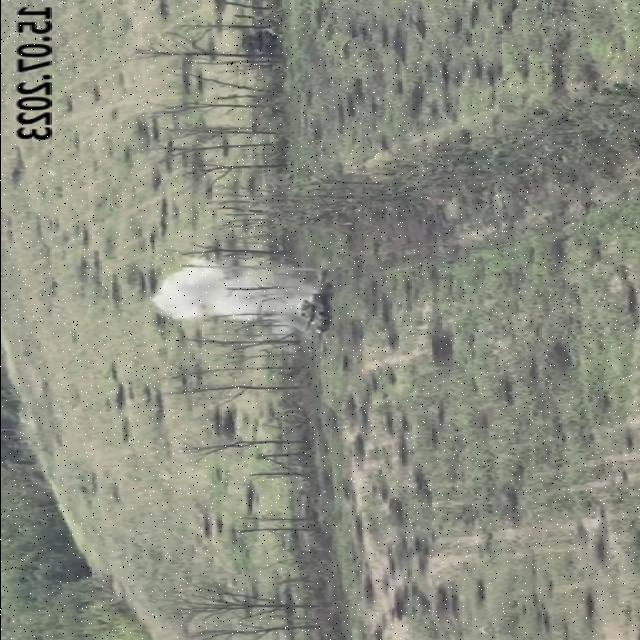TANK: (291, 290, 333, 335)
